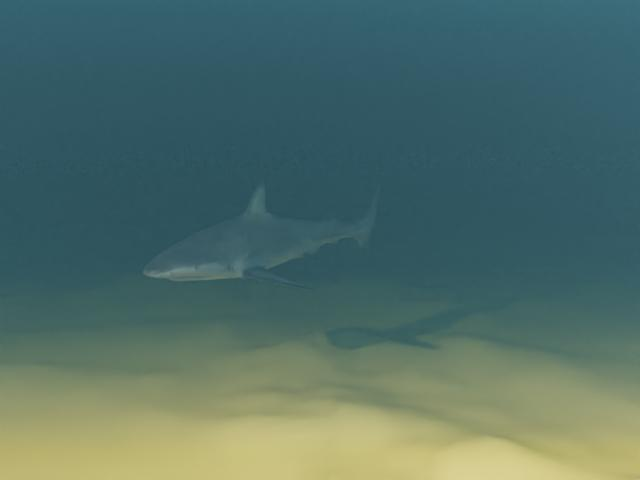Carribean Shark.001: (143, 177, 380, 290)
